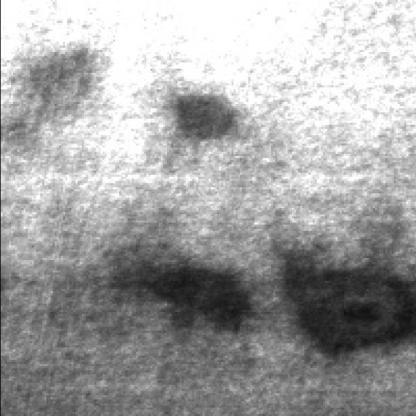patches: (287, 267, 416, 360), (127, 264, 256, 333), (172, 93, 242, 142)
